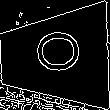O_W: (28, 34, 81, 79)
